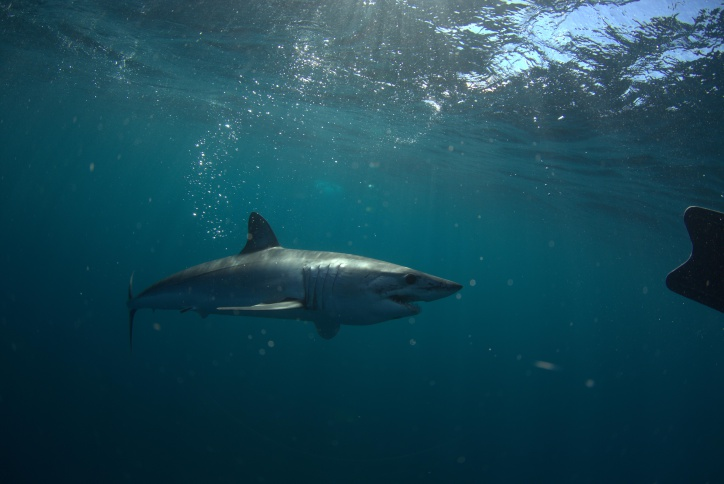Mako: (115, 204, 480, 359)
